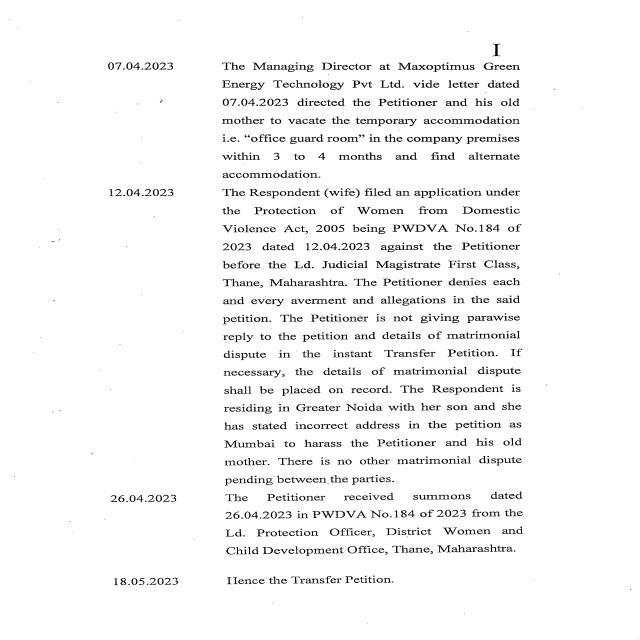page-number: (374, 0, 640, 61)
